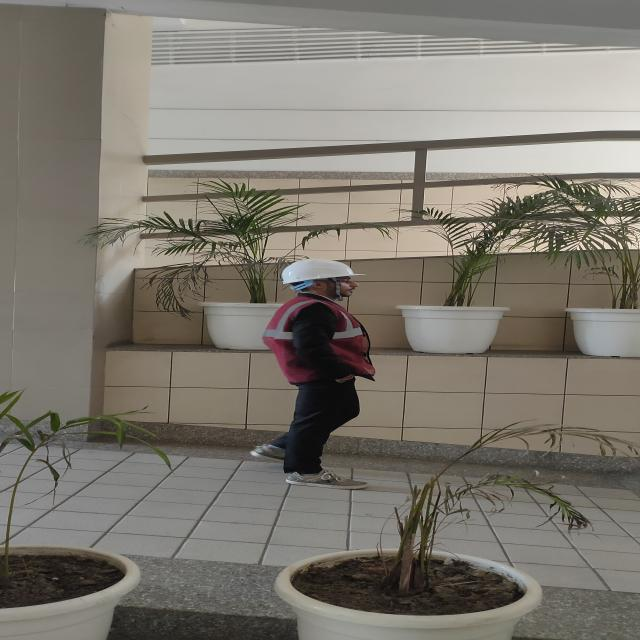safe: (262, 258, 376, 488)
